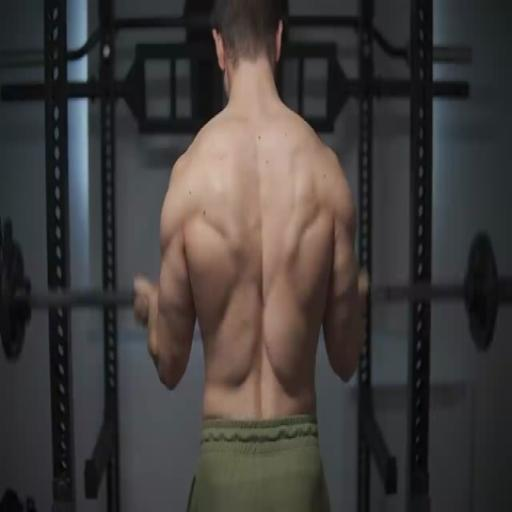exercise: (131, 0, 369, 511)
